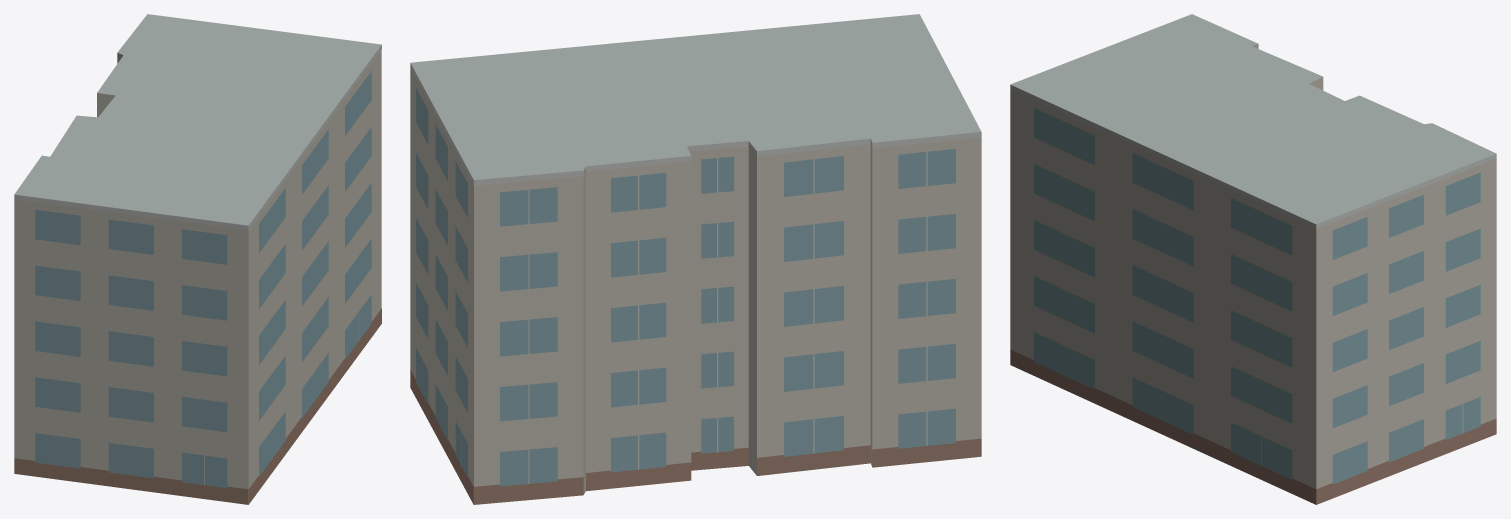
File: survey-upis-32710587.glb
3 views of the same model, side by side, from view 1: azimuth 30°, elevation 25°; view 2: azimuth 150°, elevation 25°; view 3: azimuth 270°, elevation 25° (orthographic). The views are drawn at different scales.
Visible parts, largest first — view 1: survey-upis-32710587.tmp; view 2: survey-upis-32710587.tmp; view 3: survey-upis-32710587.tmp.
Part boxes in pixels (box(x1,y1,x2,y2)): survey-upis-32710587.tmp: box(14, 14, 381, 504); survey-upis-32710587.tmp: box(410, 14, 981, 504); survey-upis-32710587.tmp: box(1010, 14, 1496, 504).
Bounding box in the file's own units: 23.02 × 14.3 × 22.49.
